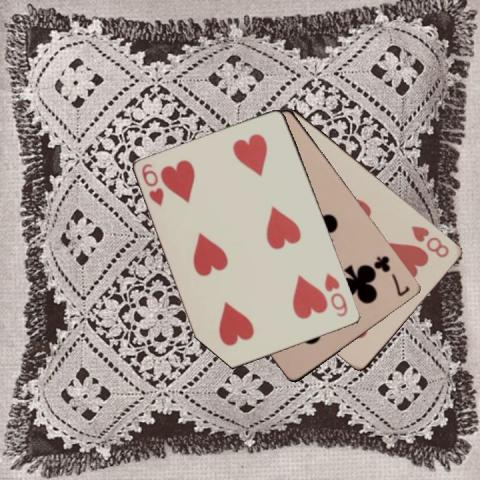6h: (322, 270, 350, 319), (139, 161, 166, 208)
7c: (372, 253, 411, 298)
8h: (408, 222, 451, 259)
